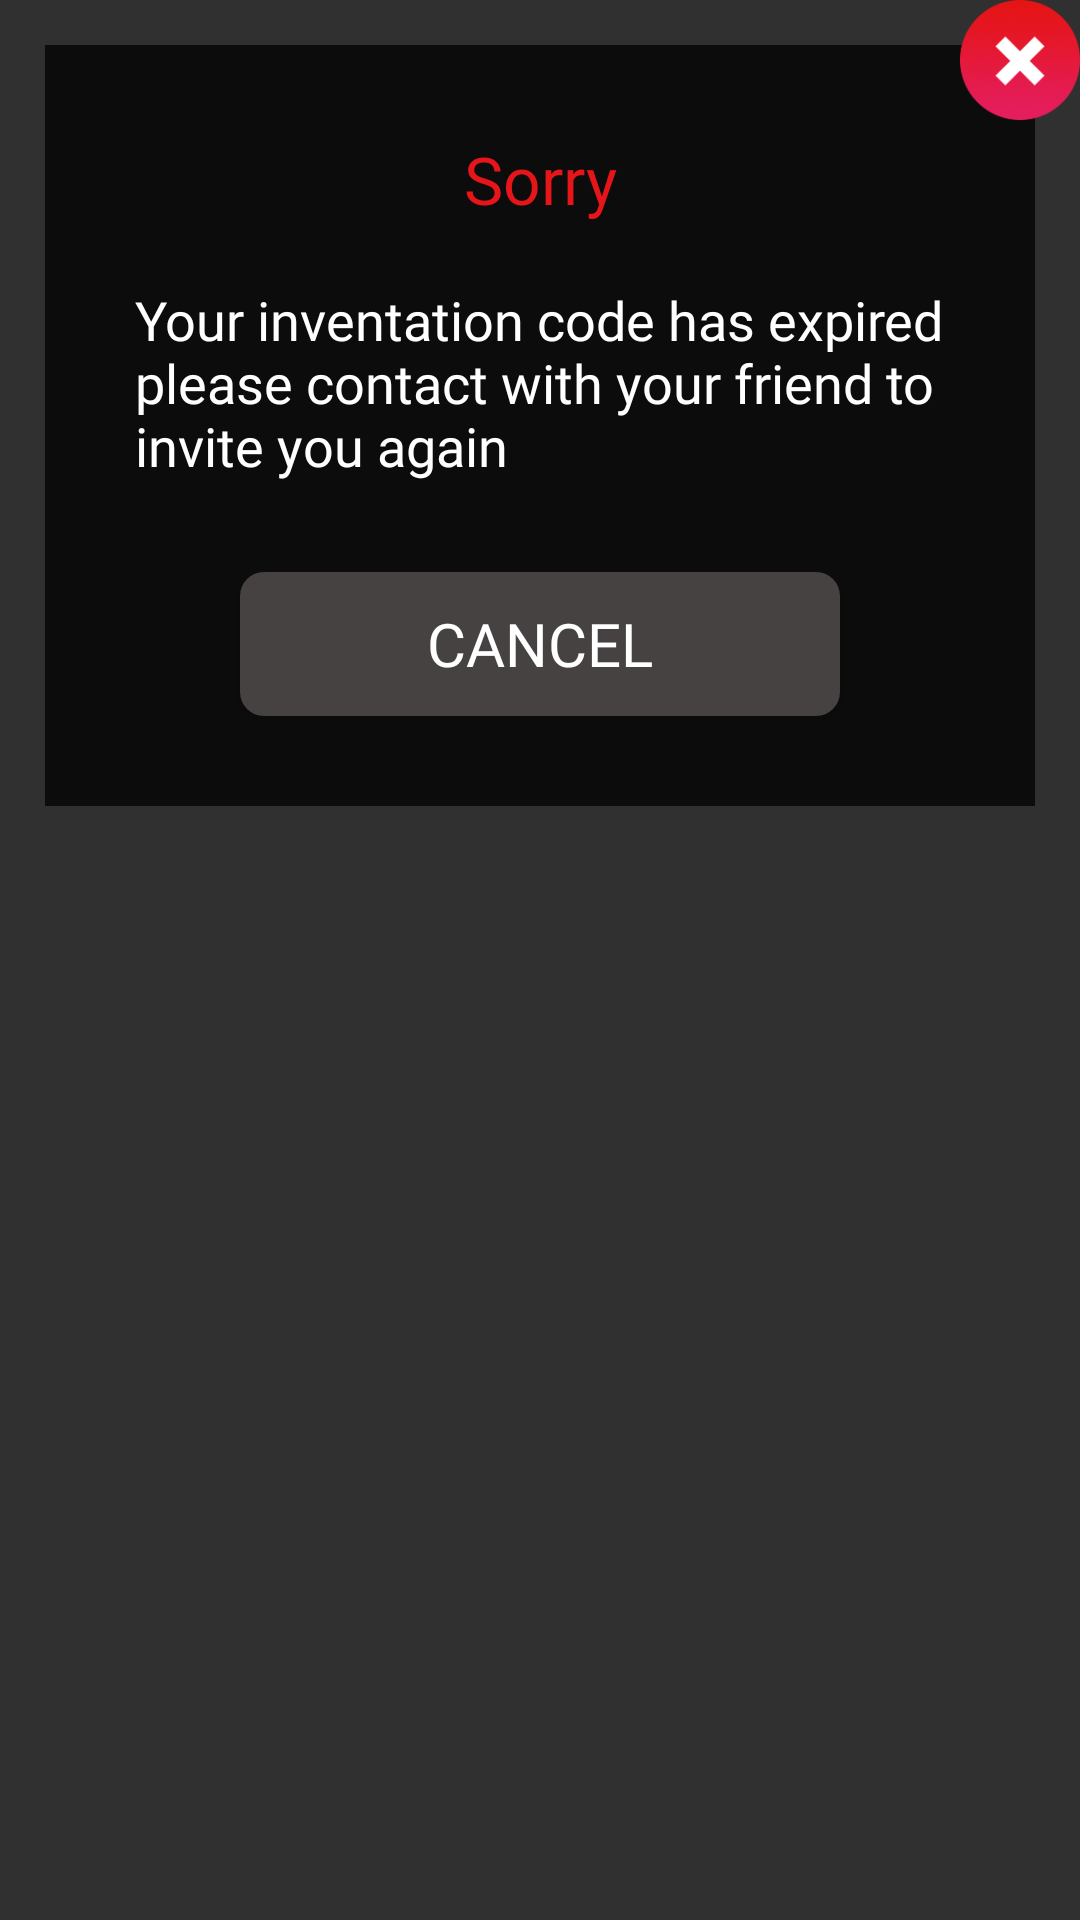

Icons on this 1080 x 1920 Android screen, each with the point to tap as point (x, y):
closedailogue: point (1020, 60)
